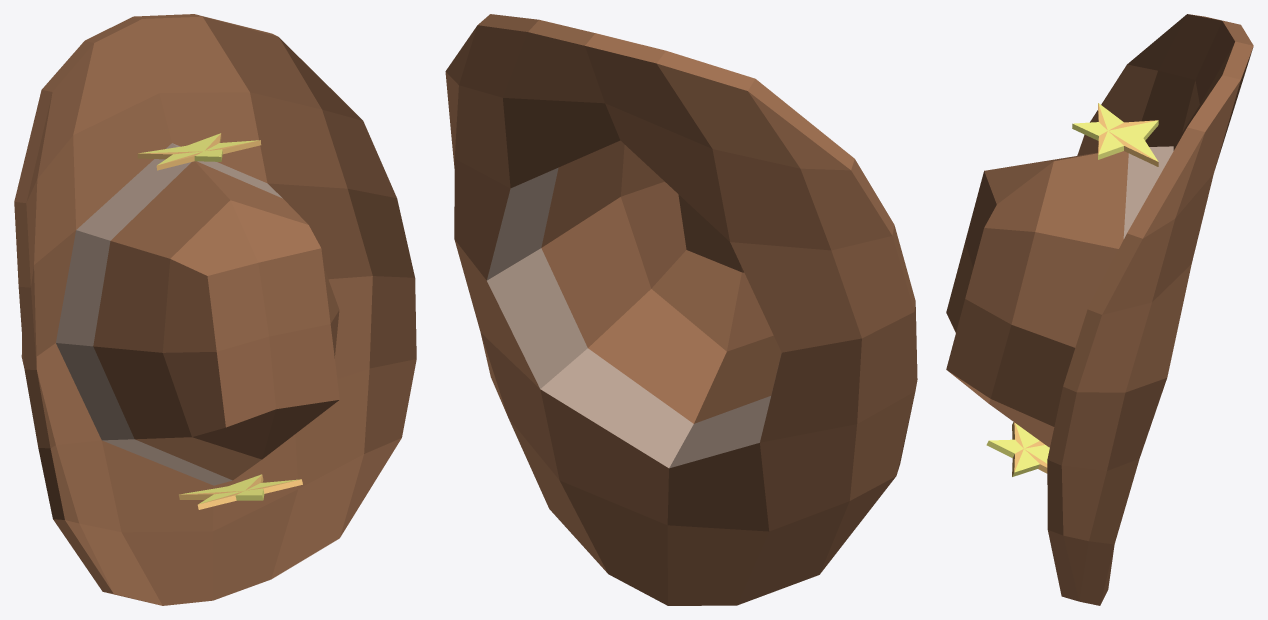
File: hat-cowboy.glb
3 renders of one model, left to right at view 1: azimuth 30°, elevation 25°; view 2: azimuth 150°, elevation 25°; view 3: azimuth 270°, elevation 25°, orthographic. The views are drawn at different scales.
Visible parts, largest first — view 1: hat-cowboy; view 2: hat-cowboy; view 3: hat-cowboy.
Part boxes in pixels (x1=…): hat-cowboy: x1=14, y1=14, x2=416, y2=605; hat-cowboy: x1=445, y1=14, x2=917, y2=605; hat-cowboy: x1=946, y1=14, x2=1253, y2=605.
Bounding box in the file's own units: 1.06 × 1.39 × 0.7084.
1 material, 1 textured.
